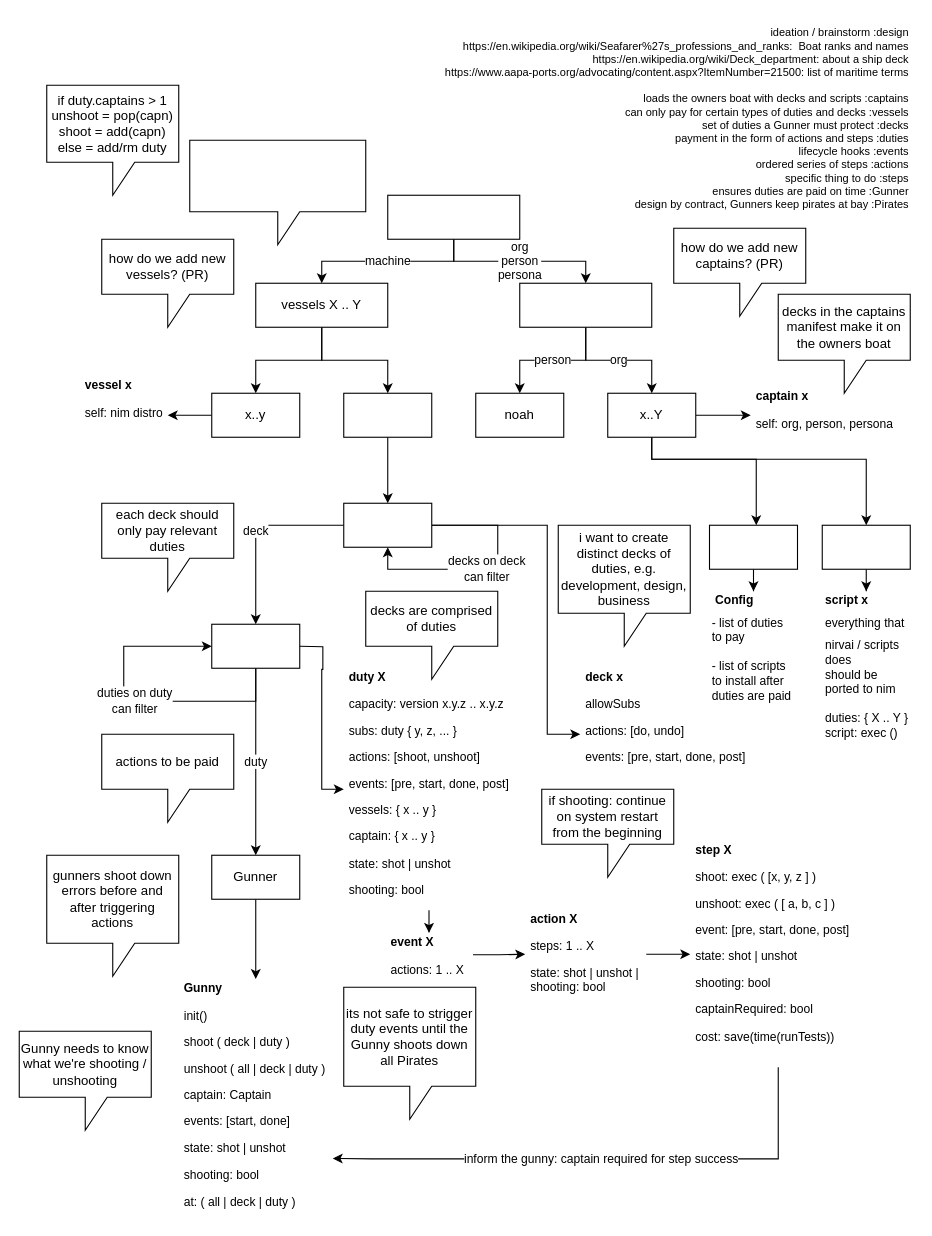
The diagram is 932 pixels wide and 1236 high, and some of its shapes have lost their labels. The centre of each missing label's shape, as x and y in pixels:
"BOAT" belongs at pixel 453 216.
"Captain" belongs at pixel 585 304.
"decks" belongs at pixel 387 524.
"duties" belongs at pixel 255 645.
"manifest.cfg" belongs at pixel 753 546.
"script x ..y" belongs at pixel 865 546.
"ubuntu" belongs at pixel 387 414.
"what if a boat requires multiple captains? ( manifest sets perms )" belongs at pixel 277 192.
